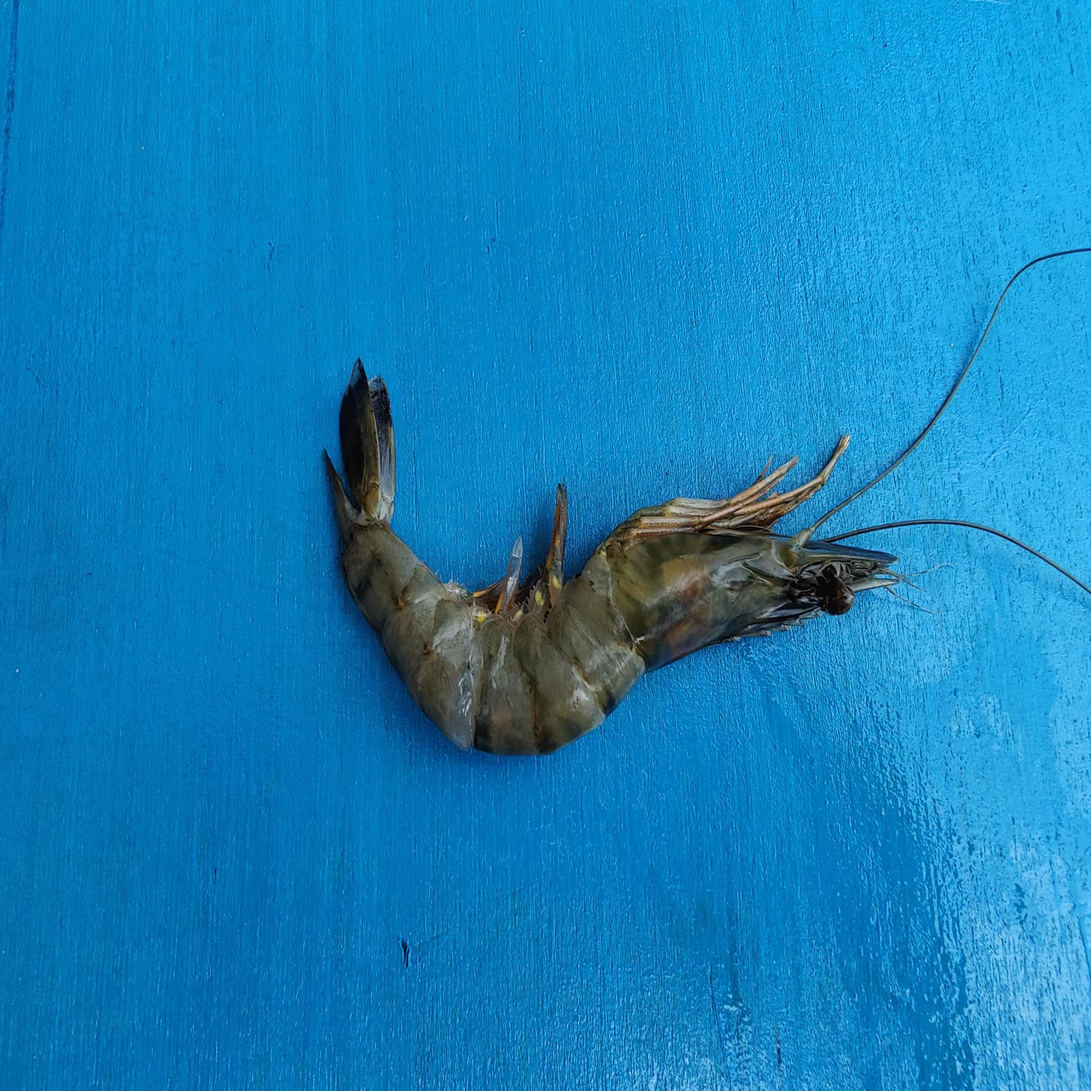blackgill: (338, 495, 470, 560)
